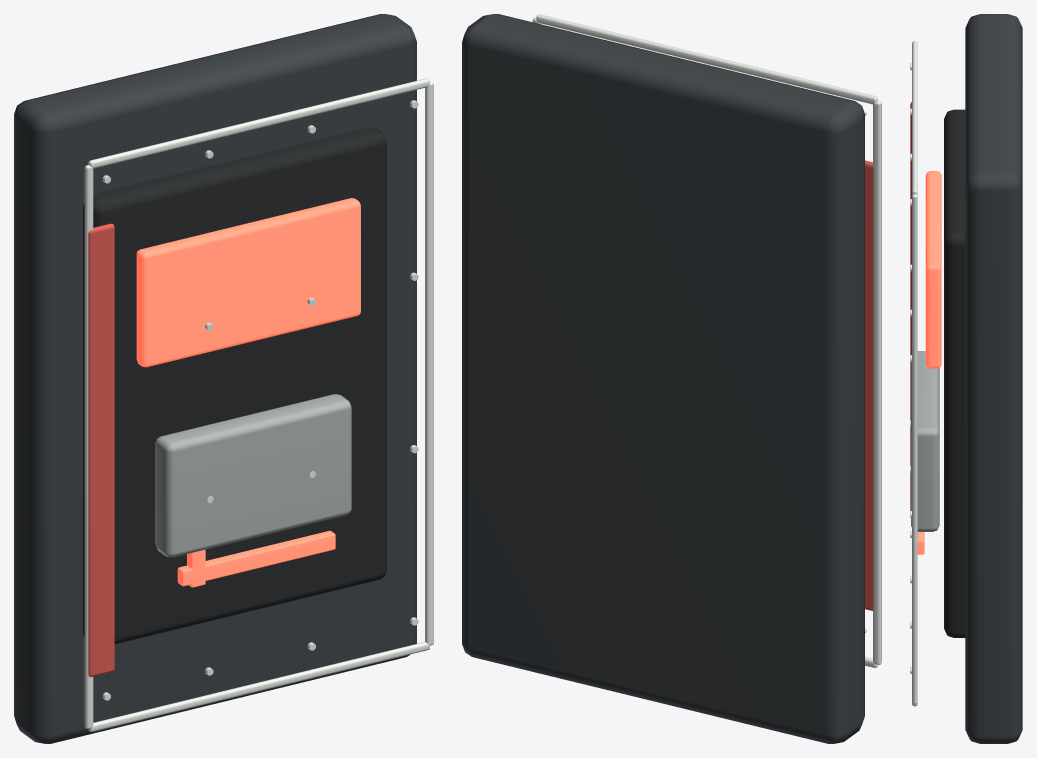
File: hp_switch_panel_wall_red.glb
3 renders of one model, left to right at view 1: azimuth 30°, elevation 25°; view 2: azimuth 150°, elevation 25°; view 3: azimuth 270°, elevation 25°, orthographic. The views are drawn at different scales.
Visible parts, largest first — view 1: switch_panel_wall_red_backplate, switch_panel_wall_red_recessed_face, switch_panel_wall_red_status_screen, switch_panel_wall_red_hand_plate, switch_panel_wall_red_wall_switch_color_spine_art_color_bloc, switch_panel_wall_red_switch_trim_trim_right, switch_panel_wall_red_switch_trim_trim_left, switch_panel_wall_red_switch_trim_trim_top, switch_panel_wall_red_switch_trim_trim_bottom, switch_panel_wall_red_route_bar_a; view 2: switch_panel_wall_red_backplate, switch_panel_wall_red_switch_trim_trim_left, switch_panel_wall_red_wall_switch_color_spine_art_color_bloc, switch_panel_wall_red_switch_trim_trim_top; view 3: switch_panel_wall_red_backplate, switch_panel_wall_red_recessed_face, switch_panel_wall_red_hand_plate, switch_panel_wall_red_status_screen, switch_panel_wall_red_switch_trim_trim_right, switch_panel_wall_red_switch_trim_trim_top, switch_panel_wall_red_wall_switch_color_spine_art_color_bloc.
Part boxes in pixels (bbox=[...]): switch_panel_wall_red_backplate: bbox=[14, 14, 416, 743]; switch_panel_wall_red_recessed_face: bbox=[83, 127, 386, 643]; switch_panel_wall_red_status_screen: bbox=[136, 198, 360, 367]; switch_panel_wall_red_hand_plate: bbox=[155, 394, 351, 557]; switch_panel_wall_red_wall_switch_color_spine_art_color_bloc: bbox=[88, 223, 114, 676]; switch_panel_wall_red_switch_trim_trim_right: bbox=[425, 81, 433, 645]; switch_panel_wall_red_switch_trim_trim_left: bbox=[84, 165, 93, 728]; switch_panel_wall_red_switch_trim_trim_top: bbox=[88, 78, 429, 168]; switch_panel_wall_red_switch_trim_trim_bottom: bbox=[88, 642, 429, 731]; switch_panel_wall_red_route_bar_a: bbox=[177, 530, 335, 586]; switch_panel_wall_red_backplate: bbox=[462, 14, 864, 743]; switch_panel_wall_red_switch_trim_trim_left: bbox=[873, 101, 881, 664]; switch_panel_wall_red_wall_switch_color_spine_art_color_bloc: bbox=[865, 160, 873, 610]; switch_panel_wall_red_switch_trim_trim_top: bbox=[536, 14, 877, 104]; switch_panel_wall_red_backplate: bbox=[965, 14, 1022, 743]; switch_panel_wall_red_recessed_face: bbox=[944, 109, 965, 637]; switch_panel_wall_red_hand_plate: bbox=[911, 351, 939, 531]; switch_panel_wall_red_status_screen: bbox=[925, 171, 941, 368]; switch_panel_wall_red_switch_trim_trim_right: bbox=[912, 194, 917, 704]; switch_panel_wall_red_switch_trim_trim_top: bbox=[912, 41, 917, 194]; switch_panel_wall_red_wall_switch_color_spine_art_color_bloc: bbox=[910, 102, 911, 510].
Size of the model in its own units: 0.7 by 1.1 by 0.196.
